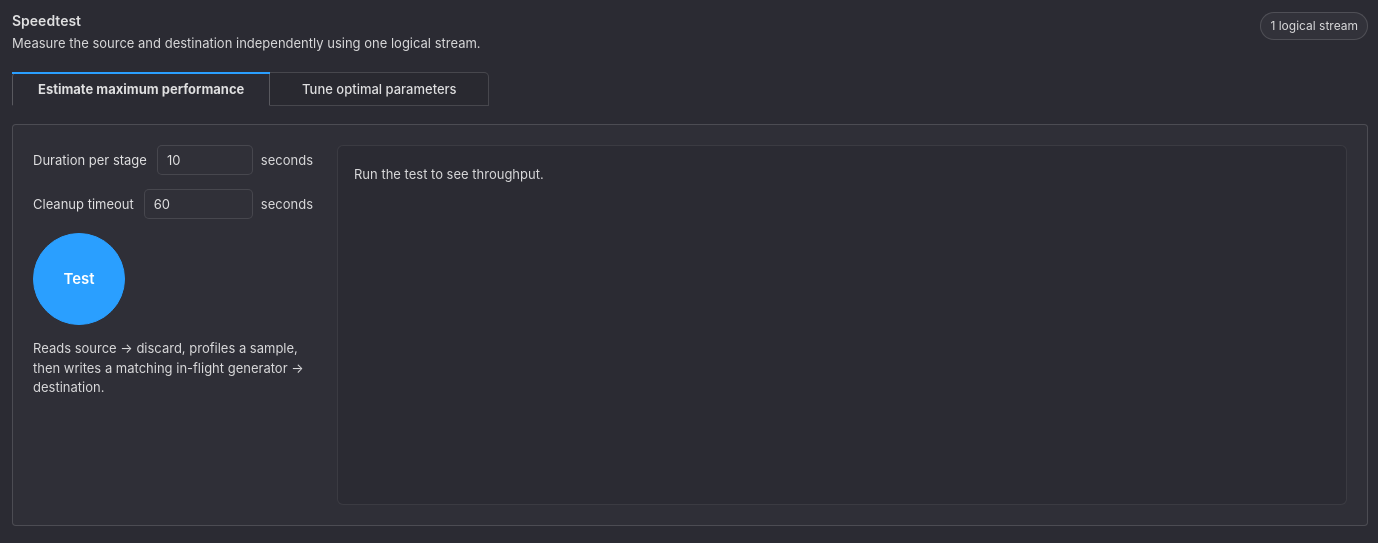
Test: SpeedtestWorkspace › warns when the bounded in-flight profile was truncated
This screenshot has width=1378, height=543.
Click the button "Test" at (79, 279), box [33, 233, 125, 325]
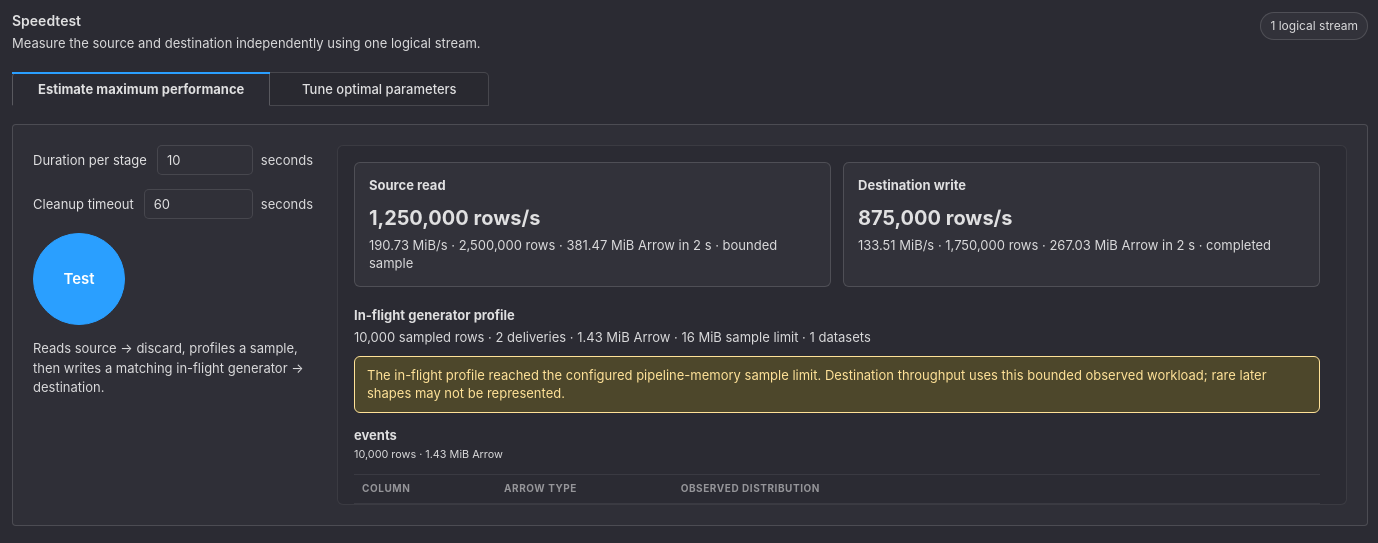
Now the text "reached the configured pipeline-memory sample limit" is shown, box [367, 367, 1266, 401]
Now the text "16 MiB sample limit" is shown, box [354, 329, 871, 345]
